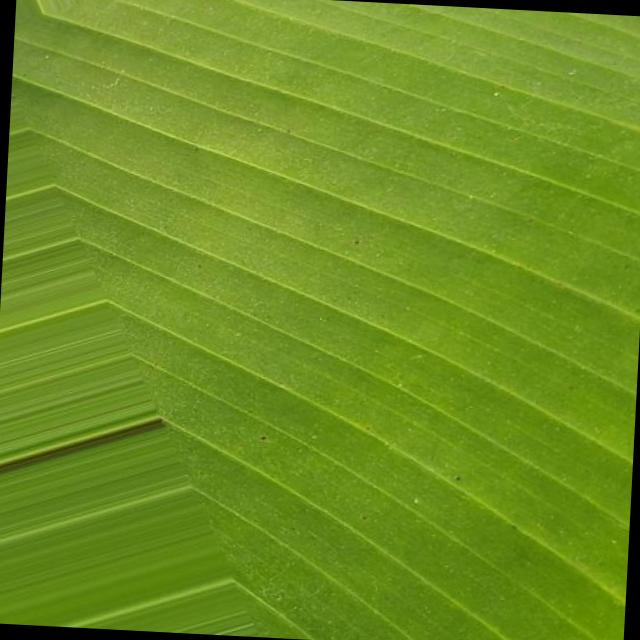Banana_Healthy: (167, 46, 581, 460)
